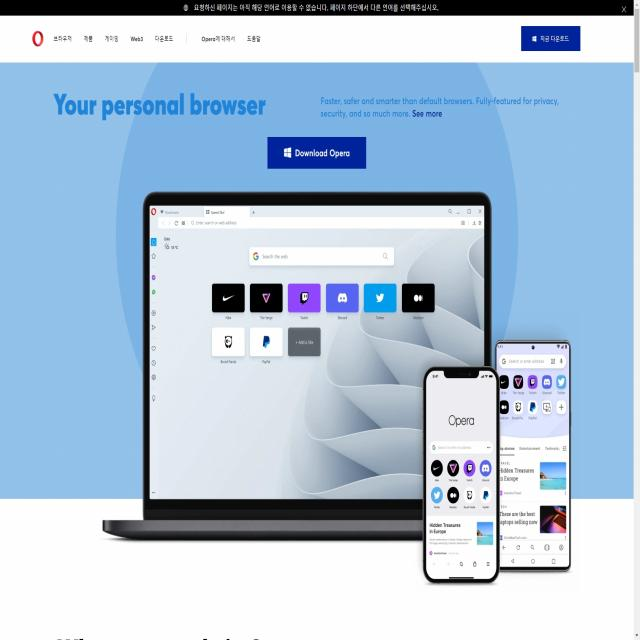menu-bar: (49, 25, 270, 51)
